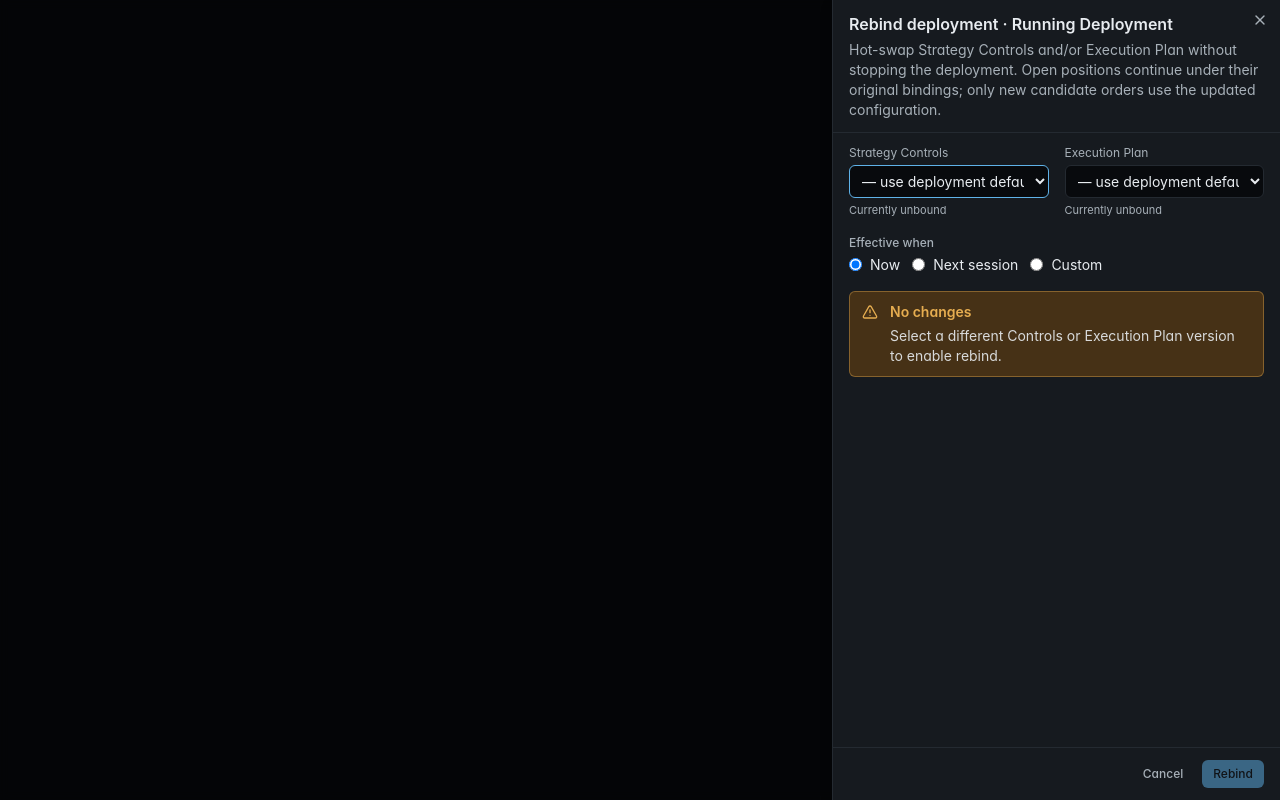
<RebindDeploymentDrawer /> › enables Rebind button after changing Controls
Note: Change controls selector — select the first library explicitly
Select "Conservative Controls v1 (default)" in the dropdown labelled "Strategy Controls" at [949, 182], box [849,165,1048,198]
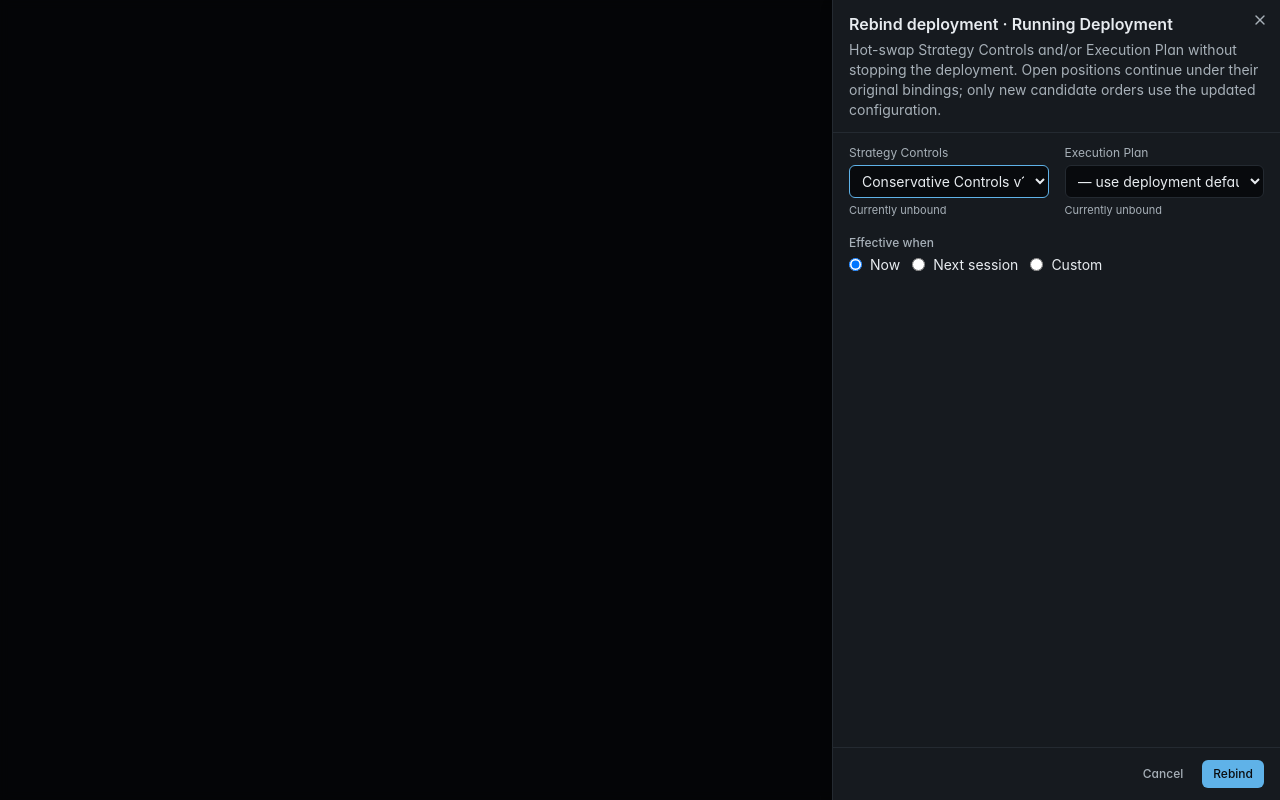
Now the button "Rebind" is enabled, box [1202,760,1264,788]
